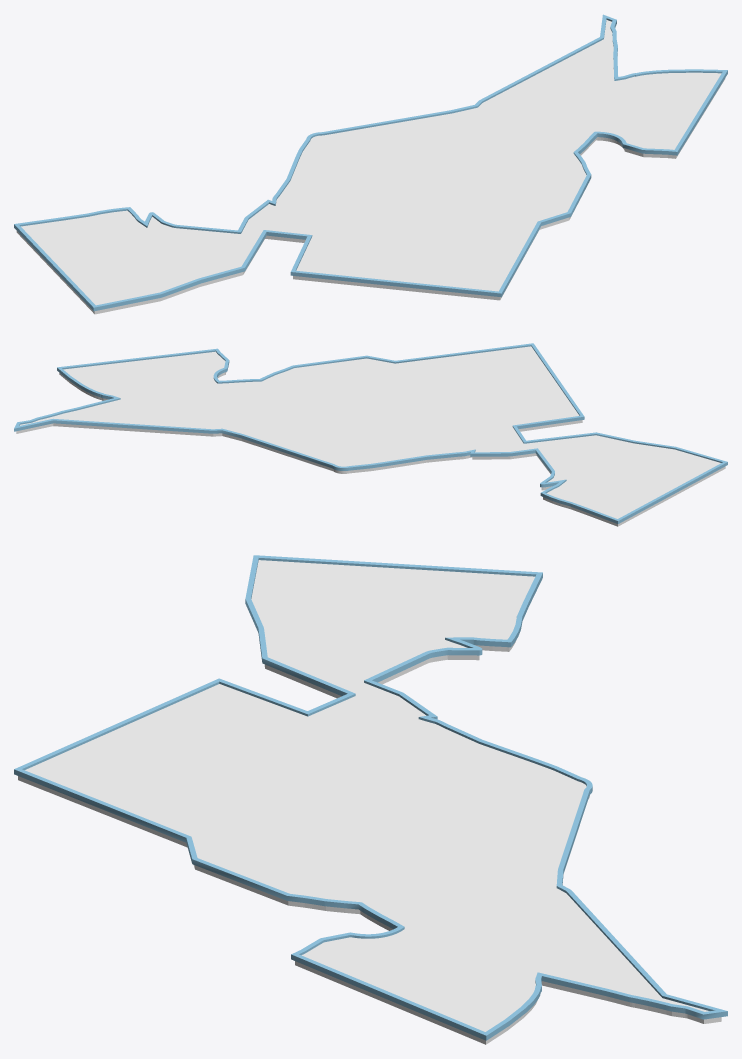
3 renders of one model, top to bottom at view 1: azimuth 30°, elevation 25°; view 2: azimuth 150°, elevation 25°; view 3: azimuth 270°, elevation 25°, orthographic. The views are drawn at different scales.
Parts seen in each view (by area): view 1: celling, scan, slide; view 2: celling, scan, slide; view 3: celling, scan, slide.
Part boxes in pixels (x1,y1,x2,y2): celling: (21,20,721,305); scan: (14,14,727,311); slide: (16,78,725,314); celling: (19,346,720,518); scan: (14,343,727,523); slide: (16,372,725,526); celling: (25,560,709,1031); scan: (14,555,727,1040); slide: (18,640,721,1044).
Size of the model in its own units: 13975 by 148 by 8773.
